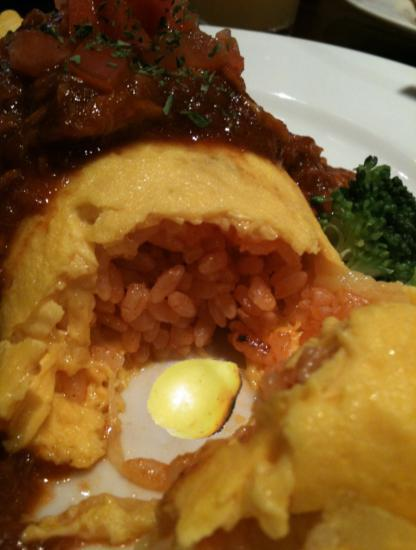Quince: (147, 345, 250, 448)
